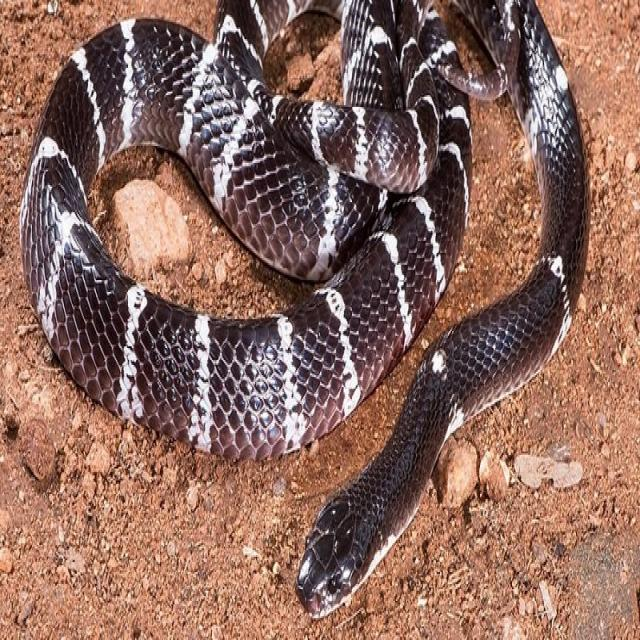Snake: (16, 2, 587, 618)
